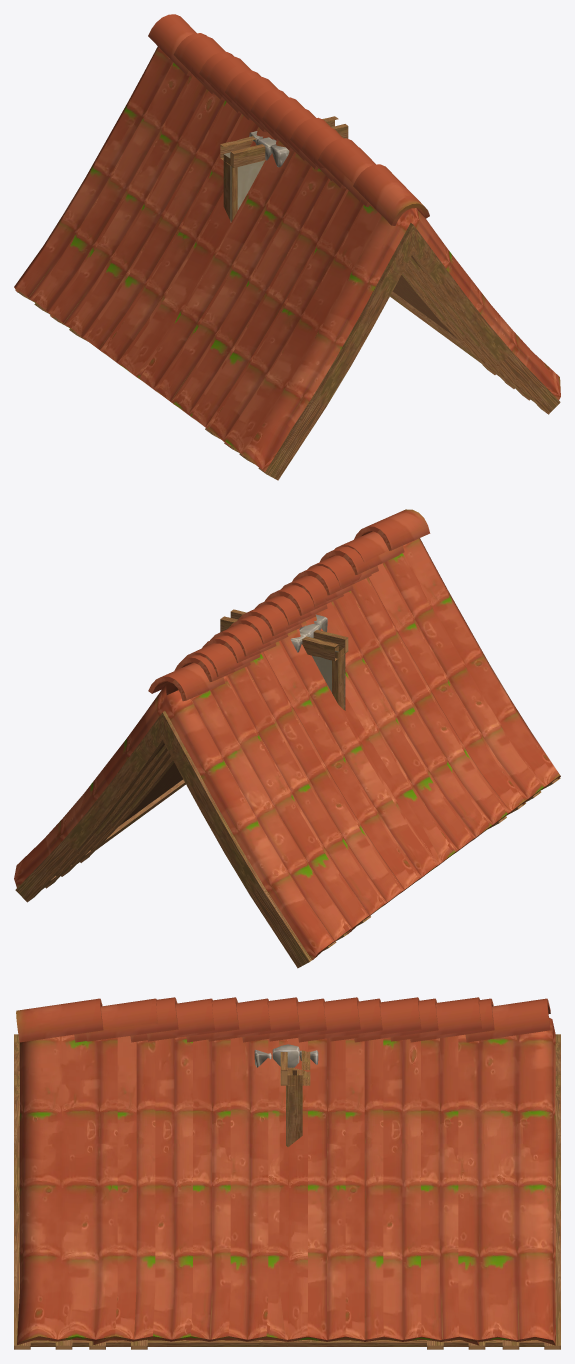
File: village.glb
3 views of the same model, one above another, from view 1: azimuth 30°, elevation 25°; view 2: azimuth 150°, elevation 25°; view 3: azimuth 270°, elevation 25° (orthographic). The views are drawn at different scales.
Visible parts, largest first — view 1: Roof_RoundTiles_4x6, Roof_RoundTiles_4x4, Wall_Plaster_Straight, Wall_Plaster_WoodGrid, Prop_Chimney; view 2: Roof_RoundTiles_4x6, Roof_RoundTiles_4x4, Wall_Plaster_WoodGrid, Wall_Plaster_Straight; view 3: Roof_RoundTiles_4x6, Roof_RoundTiles_4x4, Wall_Plaster_WoodGrid, Prop_Chimney.
Part boxes in pixels (left/top/right/bottom): Roof_RoundTiles_4x6: left=14, top=14, right=560, bottom=480; Roof_RoundTiles_4x4: left=49, top=36, right=514, bottom=453; Wall_Plaster_Straight: left=220, top=126, right=348, bottom=222; Wall_Plaster_WoodGrid: left=220, top=116, right=339, bottom=221; Prop_Chimney: left=249, top=131, right=289, bottom=167; Roof_RoundTiles_4x6: left=14, top=509, right=560, bottom=968; Roof_RoundTiles_4x4: left=61, top=546, right=525, bottom=940; Wall_Plaster_WoodGrid: left=231, top=609, right=344, bottom=709; Wall_Plaster_Straight: left=220, top=619, right=338, bottom=692; Roof_RoundTiles_4x6: left=14, top=998, right=560, bottom=1349; Roof_RoundTiles_4x4: left=86, top=997, right=485, bottom=1349; Wall_Plaster_WoodGrid: left=281, top=1050, right=310, bottom=1146; Prop_Chimney: left=254, top=1044, right=318, bottom=1067.
Bounding box in the file's own units: 5.51 × 4.25 × 7.57.
6 materials, 6 textured.
